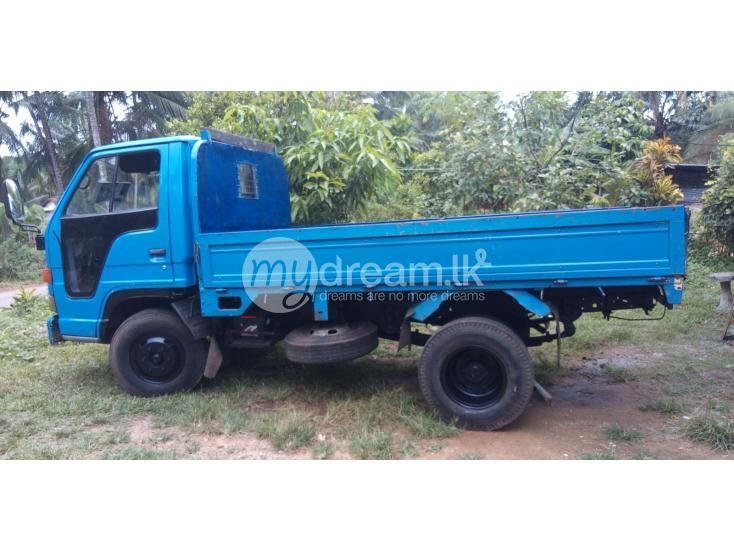truck: (2, 128, 690, 433)
